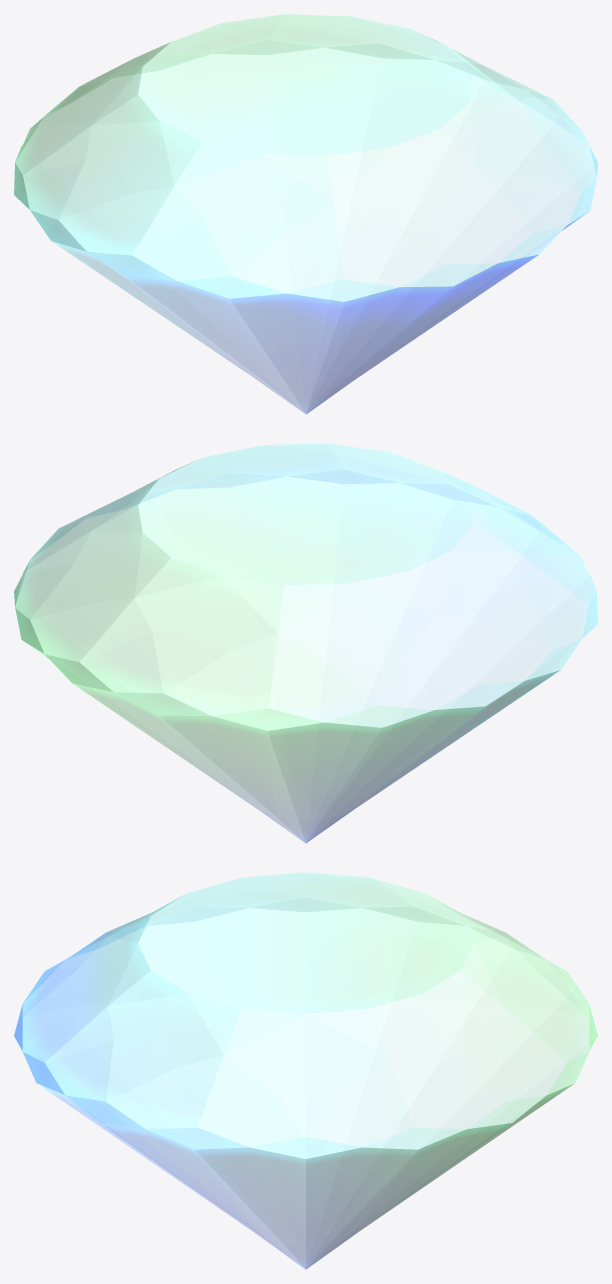
The model's file is diamond.gltf.
3 renders of one model, top to bottom at view 1: azimuth 30°, elevation 25°; view 2: azimuth 150°, elevation 25°; view 3: azimuth 270°, elevation 25°, orthographic.
Parts seen in each view (by area): view 1: pCone1; view 2: pCone1; view 3: pCone1.
Part boxes in pixels (x1,y1,x2,y2): pCone1: (14, 14, 597, 414); pCone1: (14, 443, 597, 843); pCone1: (14, 872, 597, 1269).
Bounding box in the file's own units: 2 × 1.23 × 2.
1 material, 1 textured.
